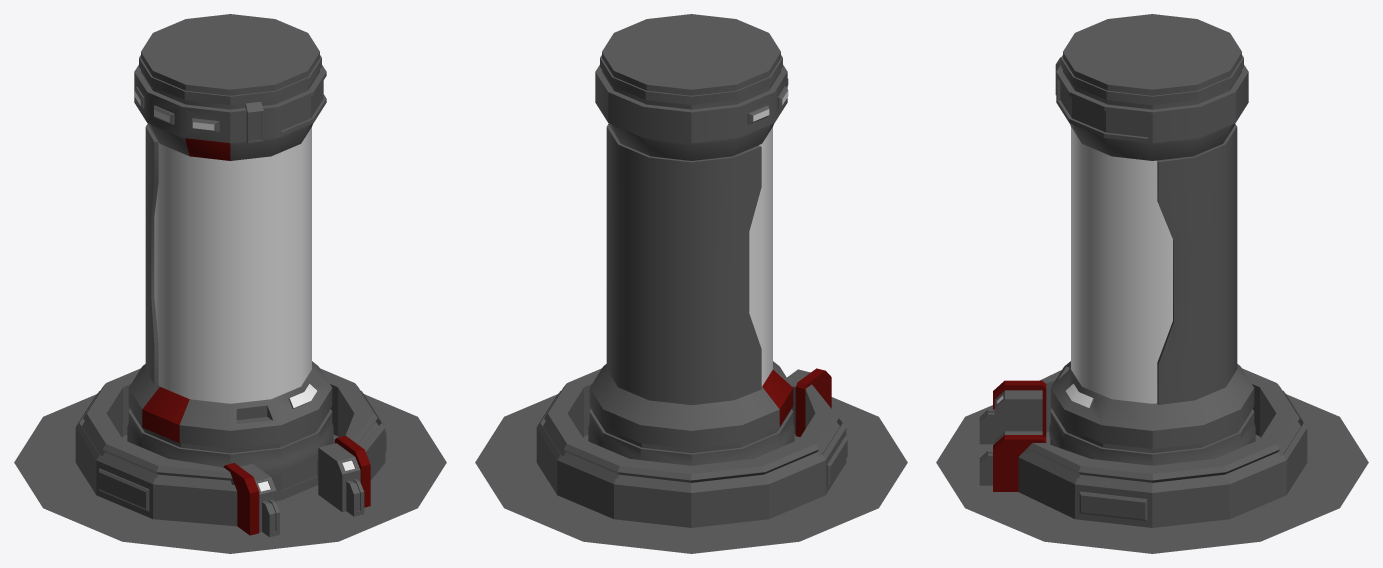
3 renders of one model, left to right at view 1: azimuth 30°, elevation 25°; view 2: azimuth 150°, elevation 25°; view 3: azimuth 270°, elevation 25°, orthographic.
Visible parts, largest first — view 1: Circle.002, Circle.003, Circle.008, Circle, Circle.007, Circle.001, Circle.004, Circle.005; view 2: Circle.004, Circle.003, Circle.007, Circle.008, Circle, Circle.002, Circle.005; view 3: Circle.003, Circle.002, Circle.007, Circle.008, Circle.004, Circle, Circle.001, Circle.005.
Boxes of the visible parts, <box> form: Circle.002: <box>154,127,311,403</box>; Circle.003: <box>134,14,326,160</box>; Circle.008: <box>14,394,446,553</box>; Circle: <box>127,361,333,500</box>; Circle.007: <box>75,368,386,526</box>; Circle.001: <box>240,443,364,537</box>; Circle.004: <box>145,124,158,384</box>; Circle.005: <box>223,435,370,535</box>; Circle.004: <box>606,124,761,405</box>; Circle.003: <box>595,14,788,160</box>; Circle.007: <box>536,368,847,527</box>; Circle.008: <box>475,394,907,553</box>; Circle: <box>588,361,794,465</box>; Circle.002: <box>749,127,772,386</box>; Circle.005: <box>795,368,831,436</box>; Circle.003: <box>1055,14,1248,160</box>; Circle.002: <box>1071,127,1172,403</box>; Circle.007: <box>1018,368,1307,527</box>; Circle.008: <box>936,394,1368,553</box>; Circle.004: <box>1157,124,1237,404</box>; Circle: <box>1049,361,1255,465</box>; Circle.001: <box>979,390,1042,485</box>; Circle.005: <box>993,380,1046,491</box>.
Bounding box in the file's own units: 420 × 440 × 420.
